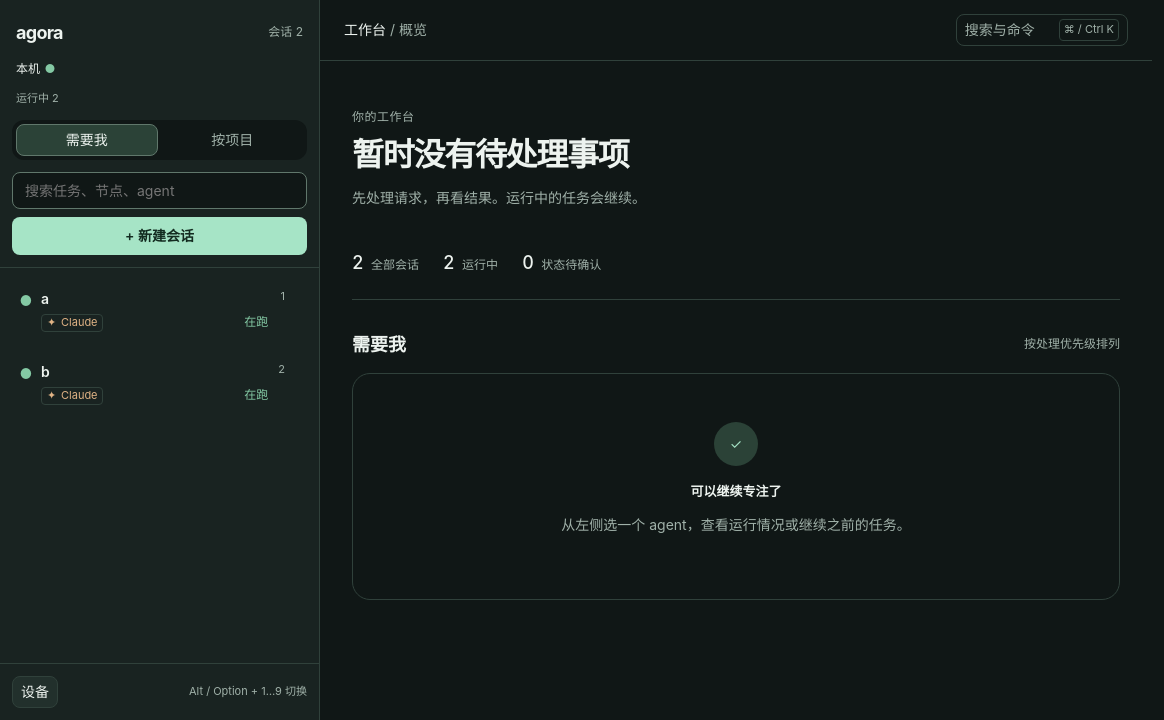
Test: 点已激活的行 / 标签页后焦点回到终端（agora-vcc） › 在看它的 diff 时再点这一行：回到终端，焦点在终端（重挂载的 focus）
What coordinates should you click on to do the following:
click the button with test id "row-n:a"
I would click on:
 (72, 323)
Its box is [10,276,294,345].
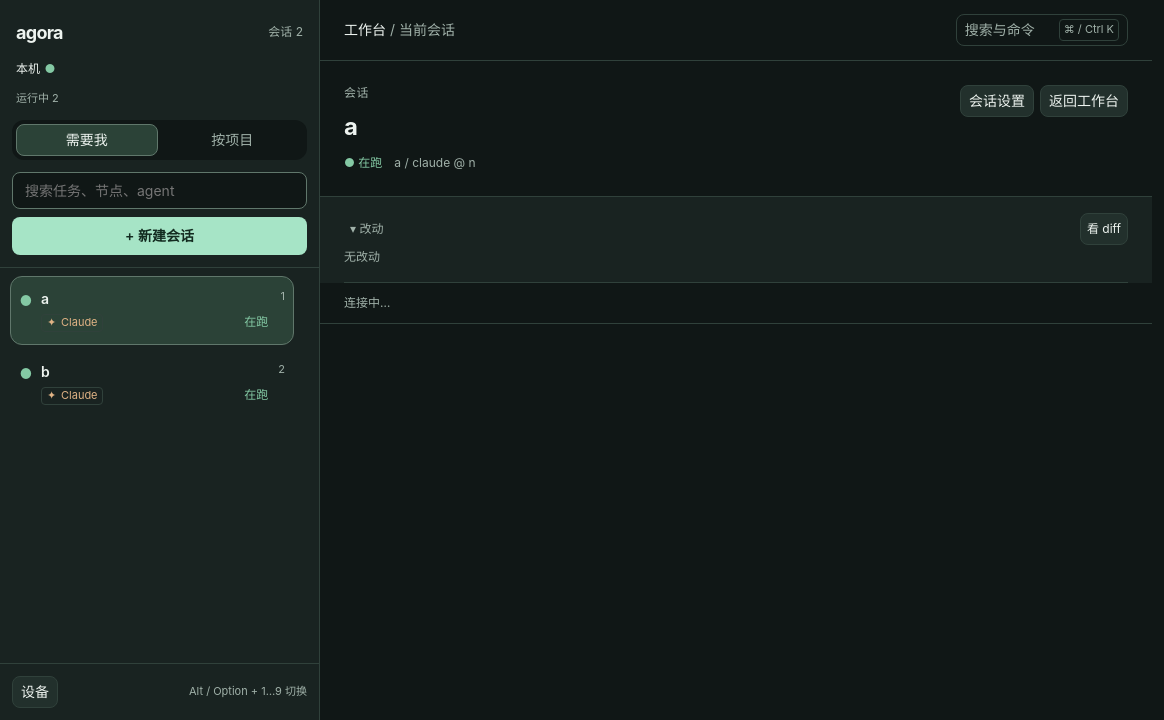
What coordinates should you click on to do the following:
click the button with test id "diff-n:a"
I would click on:
 (1104, 229)
Its box is [1080,213,1128,245].
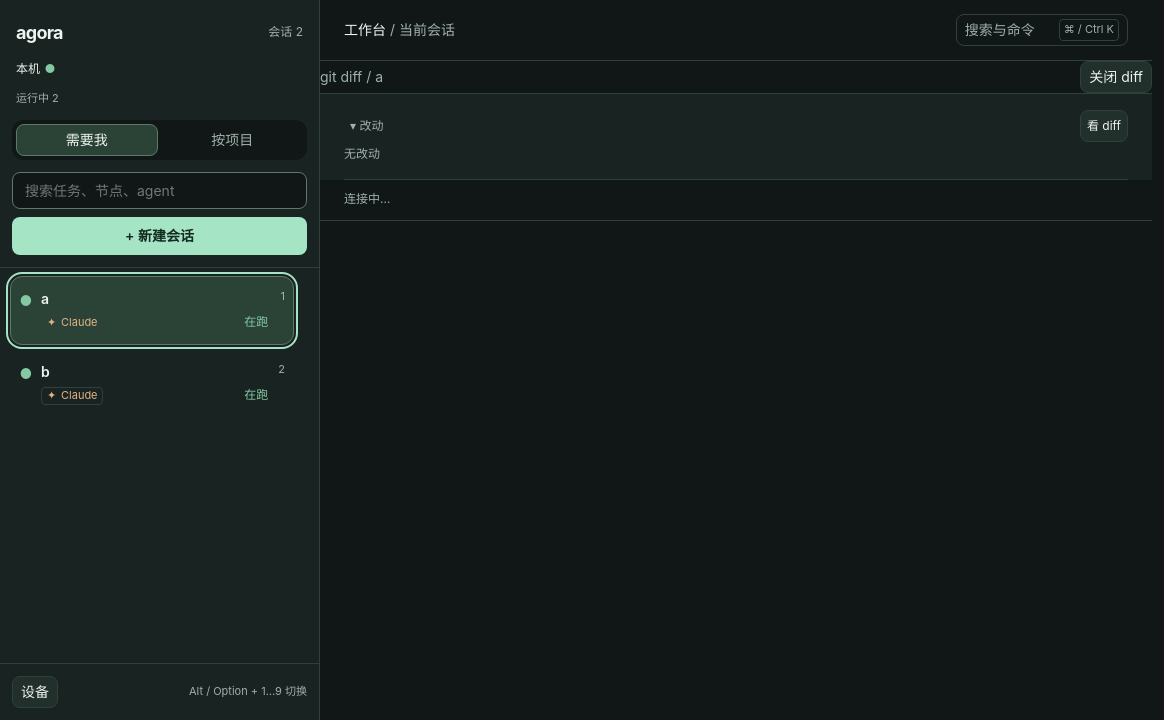
Result: the text "git diff / a" is shown at [320,67,383,87]
What coordinates should you click on to do the following:
click the button with test id "row-n:a"
I would click on:
 (72, 323)
Its box is [10,276,294,345].
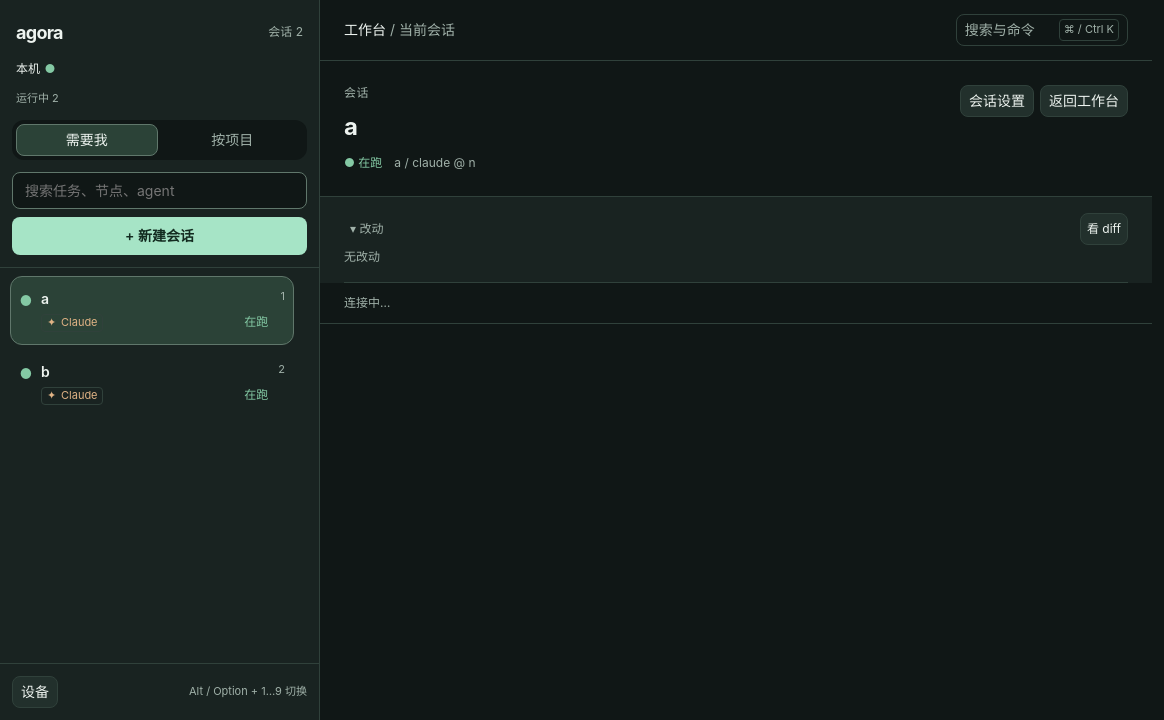
Result: the text with test id "crumb-diff" is gone
